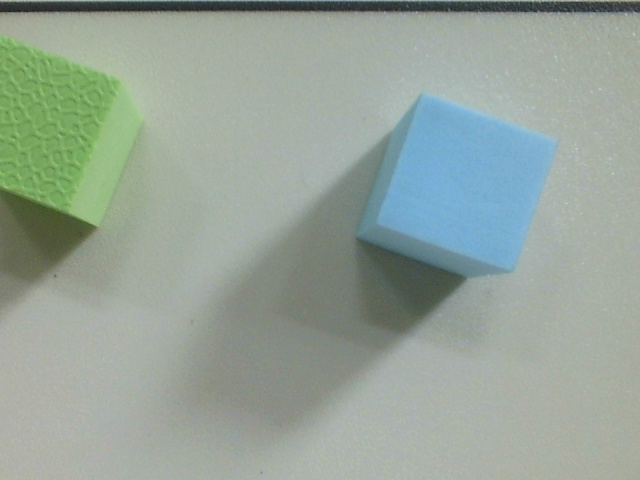greencube: (1, 31, 144, 234)
